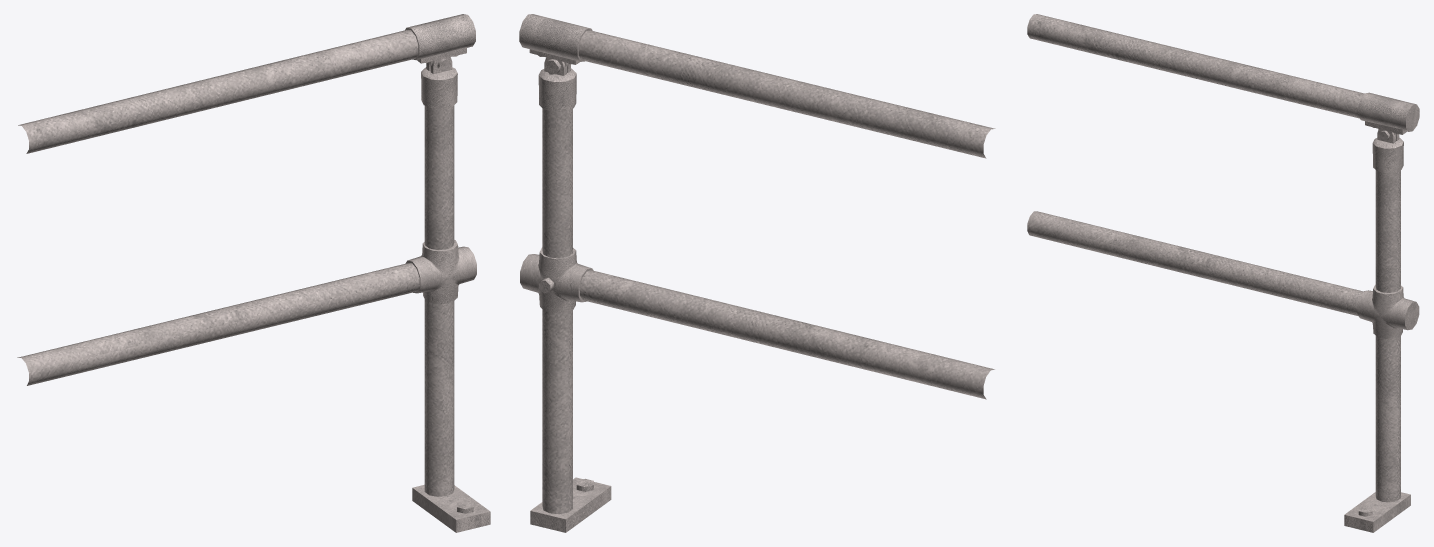
The model's file is SM_Railing_01f.glb.
The picture shows the model from 3 angles, left to right: view 1: azimuth 30°, elevation 25°; view 2: azimuth 150°, elevation 25°; view 3: azimuth 330°, elevation 25°; orthographic projection. The views are drawn at different scales.
Visible parts, largest first — view 1: SM_Railing_01f; view 2: SM_Railing_01f; view 3: SM_Railing_01f.
Boxes of the visible parts, left/top/right/bottom form: SM_Railing_01f: left=17, top=14, right=490, bottom=532; SM_Railing_01f: left=519, top=14, right=995, bottom=532; SM_Railing_01f: left=1027, top=14, right=1419, bottom=532.
Bounding box in the file's own units: 1 × 1.03 × 0.1803.
1 material, 1 textured.
